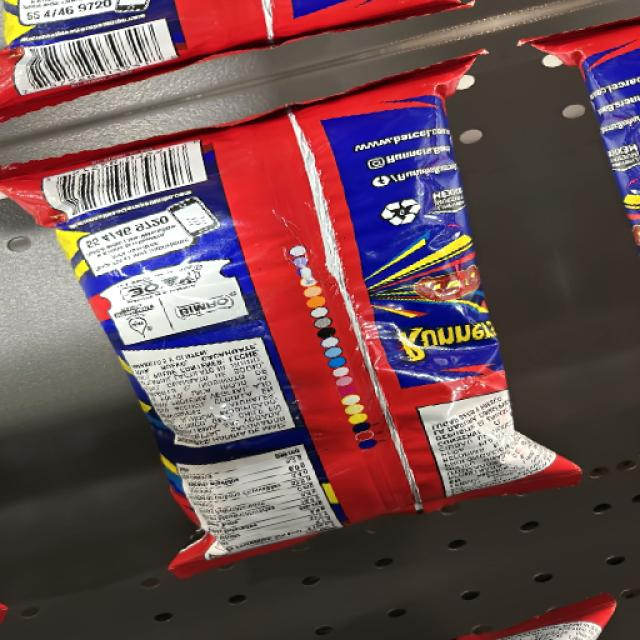productoAtras: (140, 100, 459, 541)
